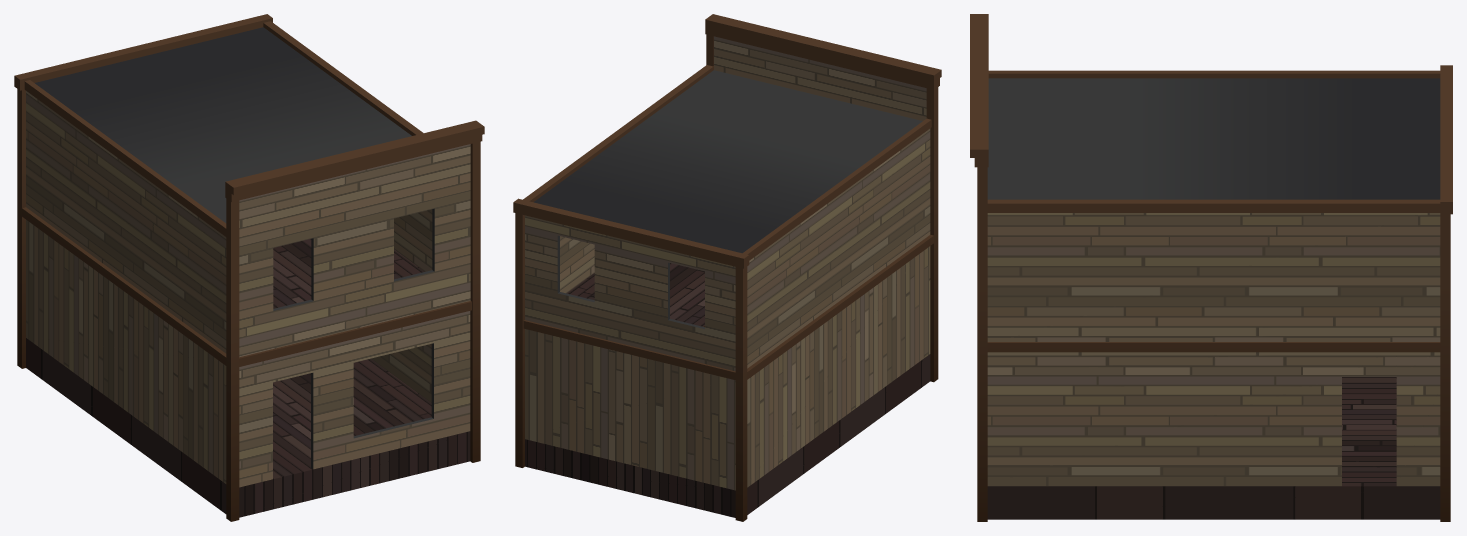
Rendered from house-6-m-yellow.glb.
3 views of the same model, side by side, from view 1: azimuth 30°, elevation 25°; view 2: azimuth 150°, elevation 25°; view 3: azimuth 270°, elevation 25° (orthographic). The views are drawn at different scales.
Parts seen in each view (by area): view 1: House 6 M Yellow; view 2: House 6 M Yellow; view 3: House 6 M Yellow.
Boxes of the visible parts, bbox=[...] form: House 6 M Yellow: bbox=[14, 14, 484, 521]; House 6 M Yellow: bbox=[513, 14, 941, 521]; House 6 M Yellow: bbox=[970, 14, 1452, 521].
Size of what is drawn, in the model's own units: 6.29 by 8 by 9.38.
Materials: 3 (3 with a texture image).
